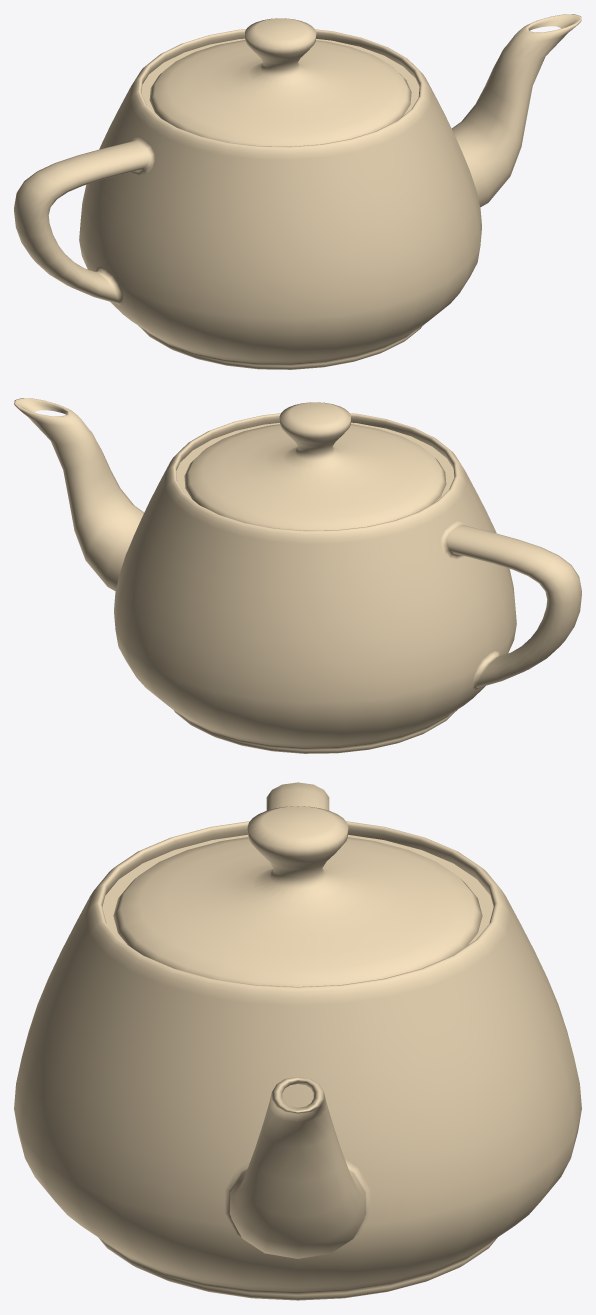
Rendered from utah_teapot_high.glb.
The picture shows the model from 3 angles, top to bottom: view 1: azimuth 30°, elevation 25°; view 2: azimuth 150°, elevation 25°; view 3: azimuth 270°, elevation 25°; orthographic projection. The views are drawn at different scales.
Visible parts, largest first — view 1: Utah Teapot; view 2: Utah Teapot; view 3: Utah Teapot.
Part boxes in pixels (<box>): Utah Teapot: <box>14,14,581,369</box>; Utah Teapot: <box>14,398,581,753</box>; Utah Teapot: <box>14,782,581,1300</box>.
Bounding box in the file's own units: 6.43 × 3.15 × 4.
